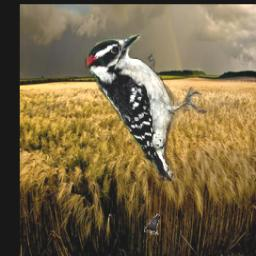Crow: (145, 214, 161, 235)
Woodpecker: (86, 34, 209, 181)
